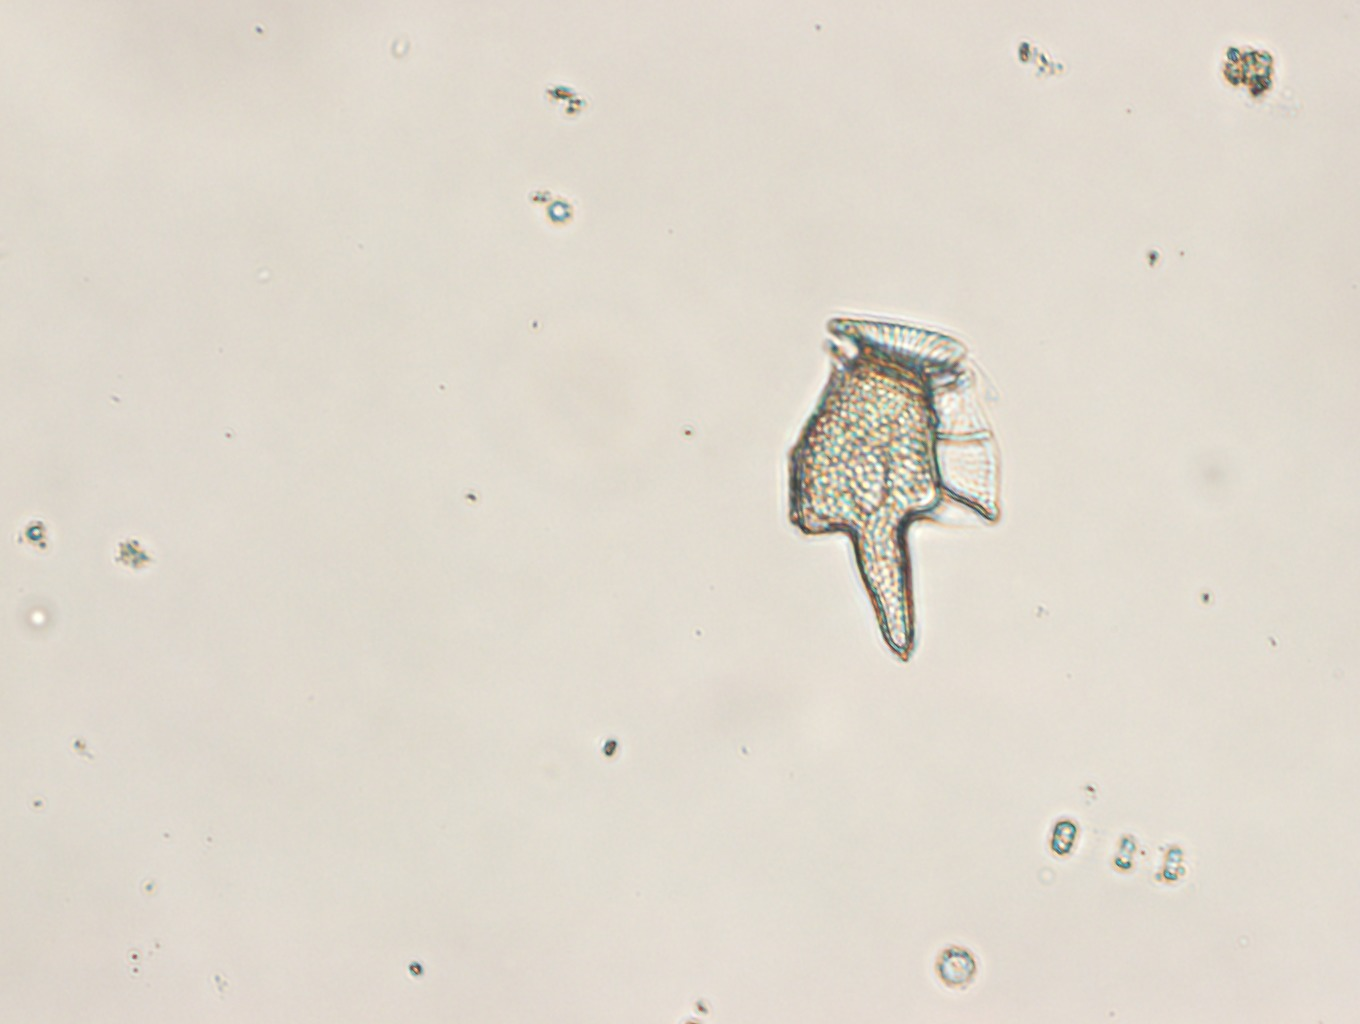dinophysis caudata: (784, 311, 1000, 662)
